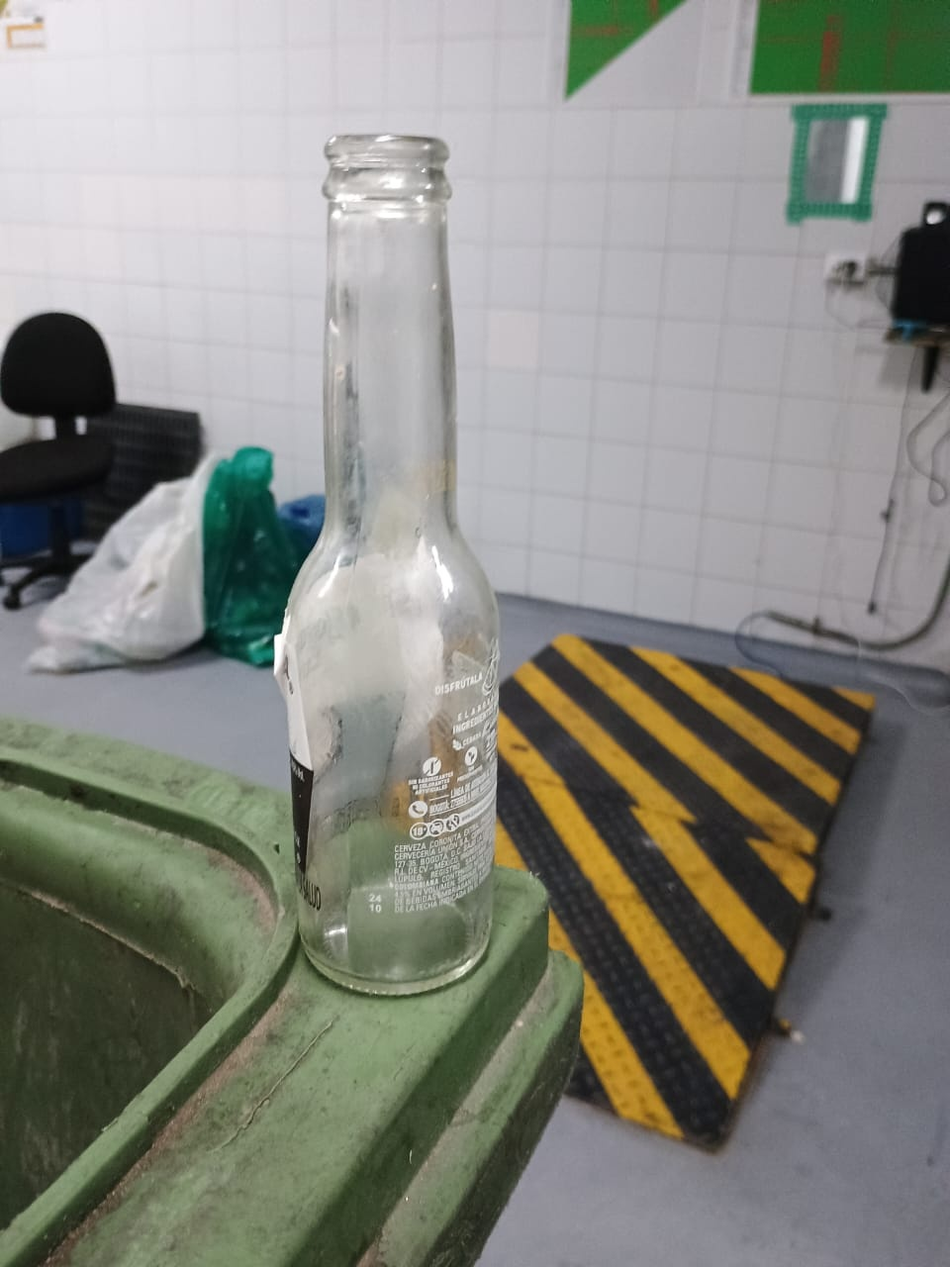Vidrio: (283, 136, 498, 995)
